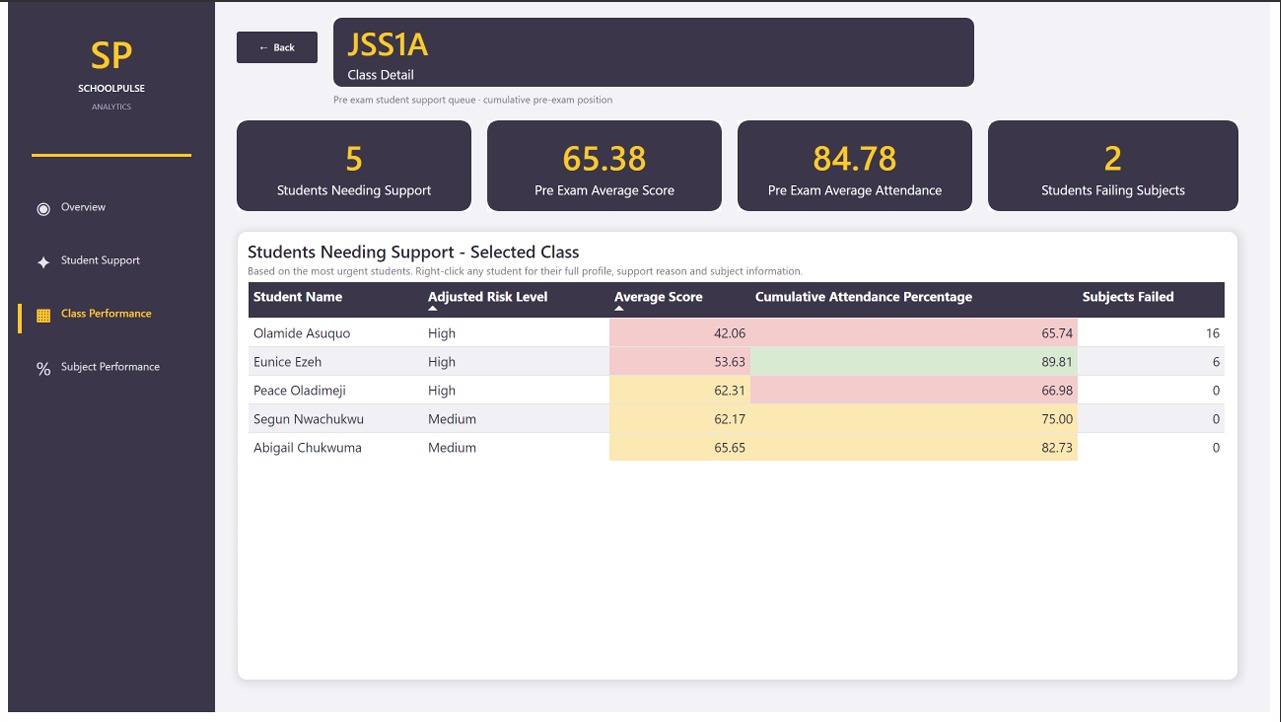

What the dashboard file says about the page in this screenshot:
{"tool":"powerbi","page":{"name":"Class Detail","canvas":[1280,720],"ordinal":4},"visuals":[{"type":"shape","box":[0,0,210,720],"z":0},{"type":"textbox","box":[28,26,154,108],"z":1000},{"type":"shape","box":[24,154,162,3],"z":2000},{"type":"shape","box":[10,306,4,30],"z":3000},{"type":"textbox","box":[22,359,28,30],"z":4000},{"type":"textbox","box":[22,197,28,30],"z":5000},{"type":"textbox","box":[22,305,28,30],"z":6000},{"type":"textbox","box":[22,251,28,30],"z":7000},{"type":"textbox","box":[54,359,142,30],"z":9000},{"type":"textbox","box":[54,305,142,30],"z":10000},{"type":"textbox","box":[54,197,142,30],"z":11000},{"type":"textbox","box":[54,251,142,30],"z":12000},{"type":"actionButton","box":[14,190,182,46],"z":14000},{"type":"actionButton","box":[14,244,182,46],"z":15000},{"type":"actionButton","box":[14,298,182,46],"z":16000},{"type":"actionButton","box":[14,352,182,46],"z":17000},{"type":"tableEx","title":"Students Needing Support - Selected Class","fields":{"Values":["Pre-Exam Support Snapshot.Student Name","Pre-Exam Support Snapshot.Adjusted Risk Level","Pre-Exam Support Snapshot.Average Score","Pre-Exam Support Snapshot.Cumulative Attendance Percentage","Pre-Exam Support Snapshot.Subjects Failed","Student Overview.Student ID"]},"box":[232,232,1016,456],"z":40000},{"type":"cardVisual","fields":{"Data":["Student Overview.Selected Class"]},"box":[330,16,650,70],"z":50000},{"type":"textbox","box":[330,88,800,24],"z":50001},{"type":"shape","box":[232,30,82,32],"z":63000},{"type":"textbox","box":[232,35,82,22],"z":63001},{"type":"actionButton","box":[232,30,82,32],"z":63002},{"type":"shape","box":[232,120,238,92],"z":66900},{"type":"shape","box":[486,120,238,92],"z":66901},{"type":"shape","box":[740,120,238,92],"z":66902},{"type":"shape","box":[994,120,254,92],"z":66903},{"type":"cardVisual","fields":{"Data":["Student Overview.Students Needing Pre-Exam Support"]},"box":[232,120,238,92],"z":67000},{"type":"cardVisual","fields":{"Data":["Student Overview.Class Pre-Exam Average Score"]},"box":[486,120,238,92],"z":67001},{"type":"cardVisual","fields":{"Data":["Student Overview.Class Pre-Exam Average Attendance"]},"box":[740,120,238,92],"z":67002},{"type":"cardVisual","fields":{"Data":["Student Overview.Class Failing Students"]},"box":[994,120,254,92],"z":67003}]}

Visuals, with their boxes on the page's 1280x720 design canvas (x1, y1, x2, y2). These are canvas units, not pixel positions in the 1281x722 screenshot, which may show the page scaled, cropped or inside an application window:
shape: (0,0,210,720)
textbox: (28,26,182,134)
shape: (24,154,186,157)
shape: (10,306,14,336)
textbox: (22,359,50,389)
textbox: (22,197,50,227)
textbox: (22,305,50,335)
textbox: (22,251,50,281)
textbox: (54,359,196,389)
textbox: (54,305,196,335)
textbox: (54,197,196,227)
textbox: (54,251,196,281)
actionButton: (14,190,196,236)
actionButton: (14,244,196,290)
actionButton: (14,298,196,344)
actionButton: (14,352,196,398)
"Students Needing Support - Selected Class" tableEx: (232,232,1248,688)
cardVisual - Student Overview.Selected Class: (330,16,980,86)
textbox: (330,88,1130,112)
shape: (232,30,314,62)
textbox: (232,35,314,57)
actionButton: (232,30,314,62)
shape: (232,120,470,212)
shape: (486,120,724,212)
shape: (740,120,978,212)
shape: (994,120,1248,212)
cardVisual - Student Overview.Students Needing Pre-Exam Support: (232,120,470,212)
cardVisual - Student Overview.Class Pre-Exam Average Score: (486,120,724,212)
cardVisual - Student Overview.Class Pre-Exam Average Attendance: (740,120,978,212)
cardVisual - Student Overview.Class Failing Students: (994,120,1248,212)
